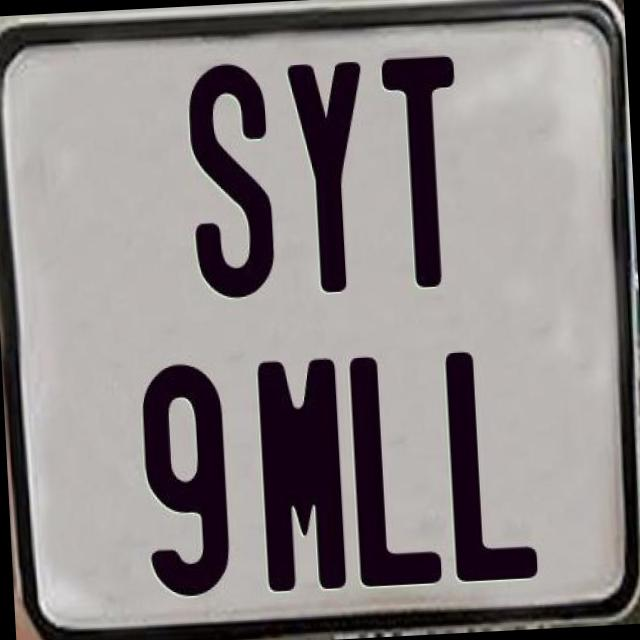9: (138, 361, 231, 606)
L: (444, 344, 543, 579), (344, 350, 440, 590)
M: (256, 354, 356, 590)
S: (185, 61, 276, 306)
T: (378, 53, 466, 291)
Y: (286, 56, 376, 292)
